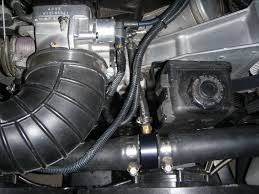radiator_hose: (58, 119, 259, 169)
